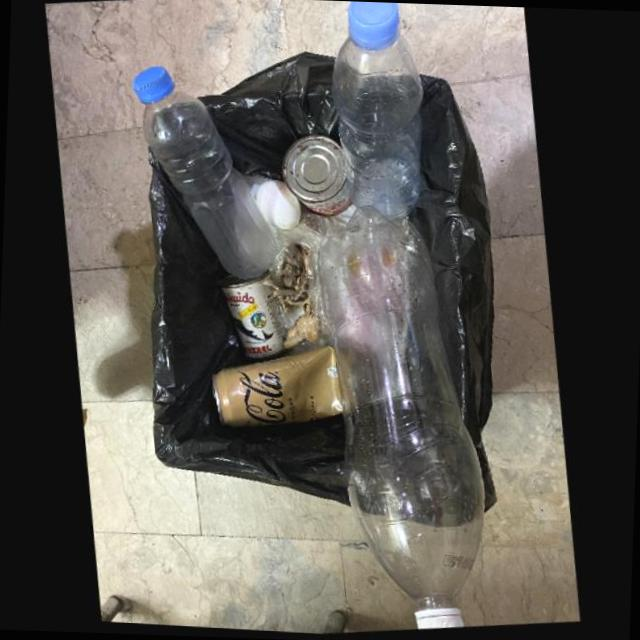chai_nhua_pet: (320, 212, 486, 630), (135, 68, 278, 281), (335, 1, 427, 225)
nhom: (213, 348, 345, 429), (220, 271, 289, 360), (285, 136, 356, 218)
thuc_an_thua: (269, 244, 319, 350)
vo_trung: (258, 181, 304, 231)
